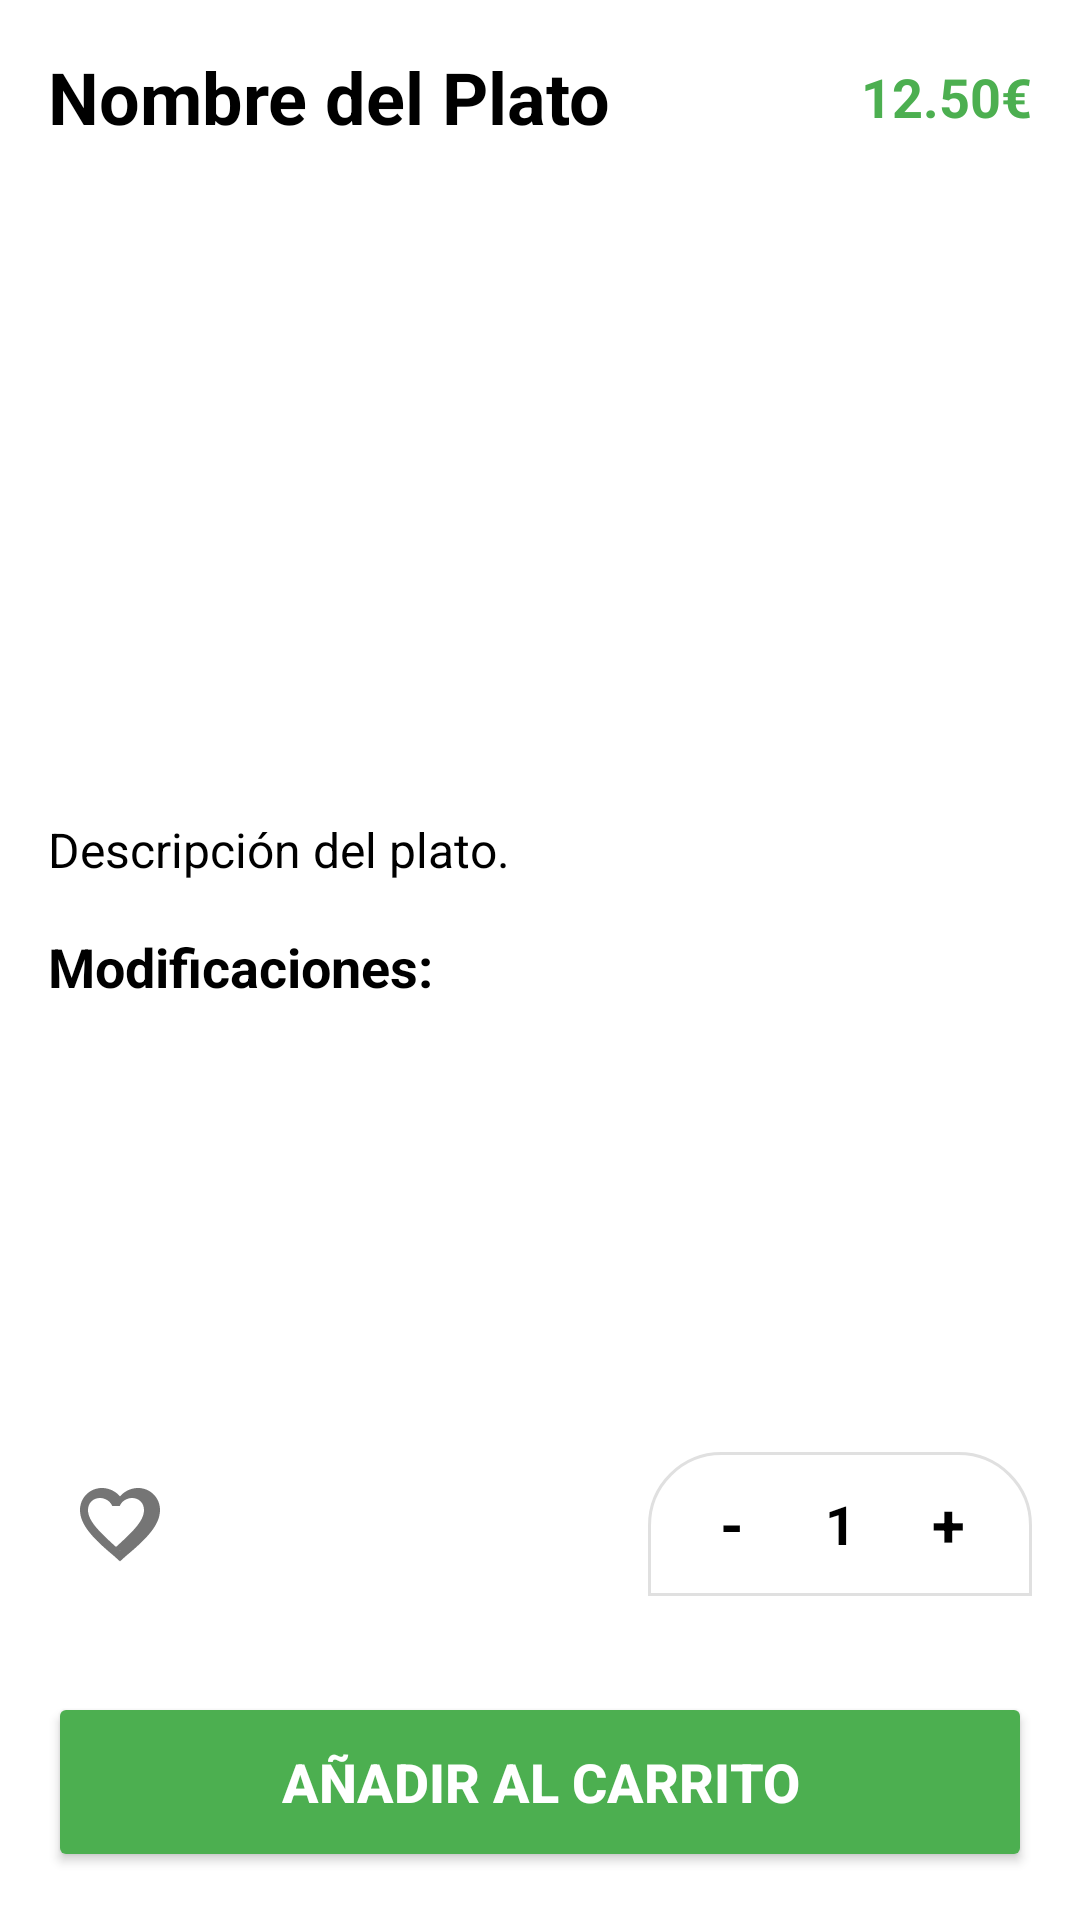

Icon click points for this 1080px×1920px phone screenshot, format [x,y]:
favorite border: [120,1524]
